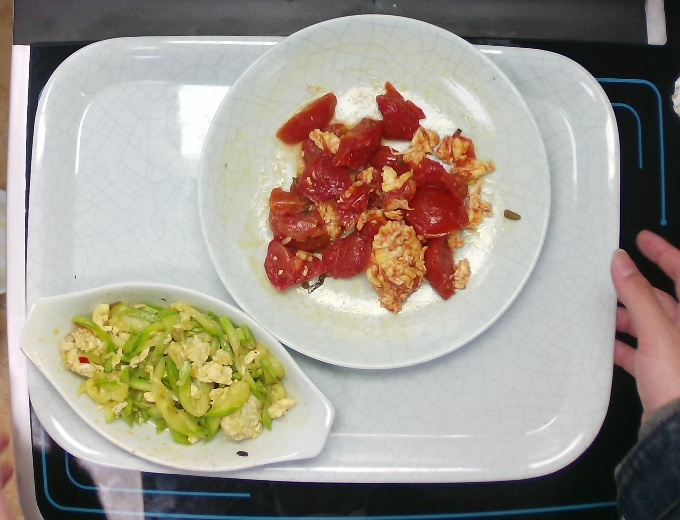JYsf-Da_Yuan_Pan: (187, 6, 556, 378)
JYsf-Yu_Pan: (12, 278, 339, 473)
